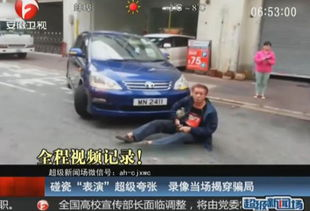fall: (112, 80, 224, 146)
